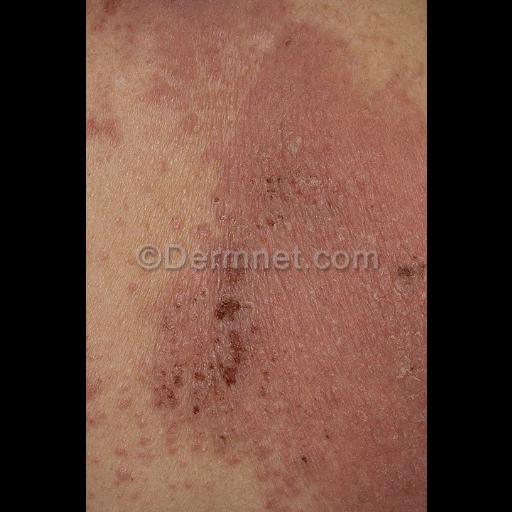Skin_Lesion: (248, 168, 308, 256), (188, 332, 256, 386), (200, 290, 246, 324), (384, 258, 418, 292), (100, 0, 116, 24)
